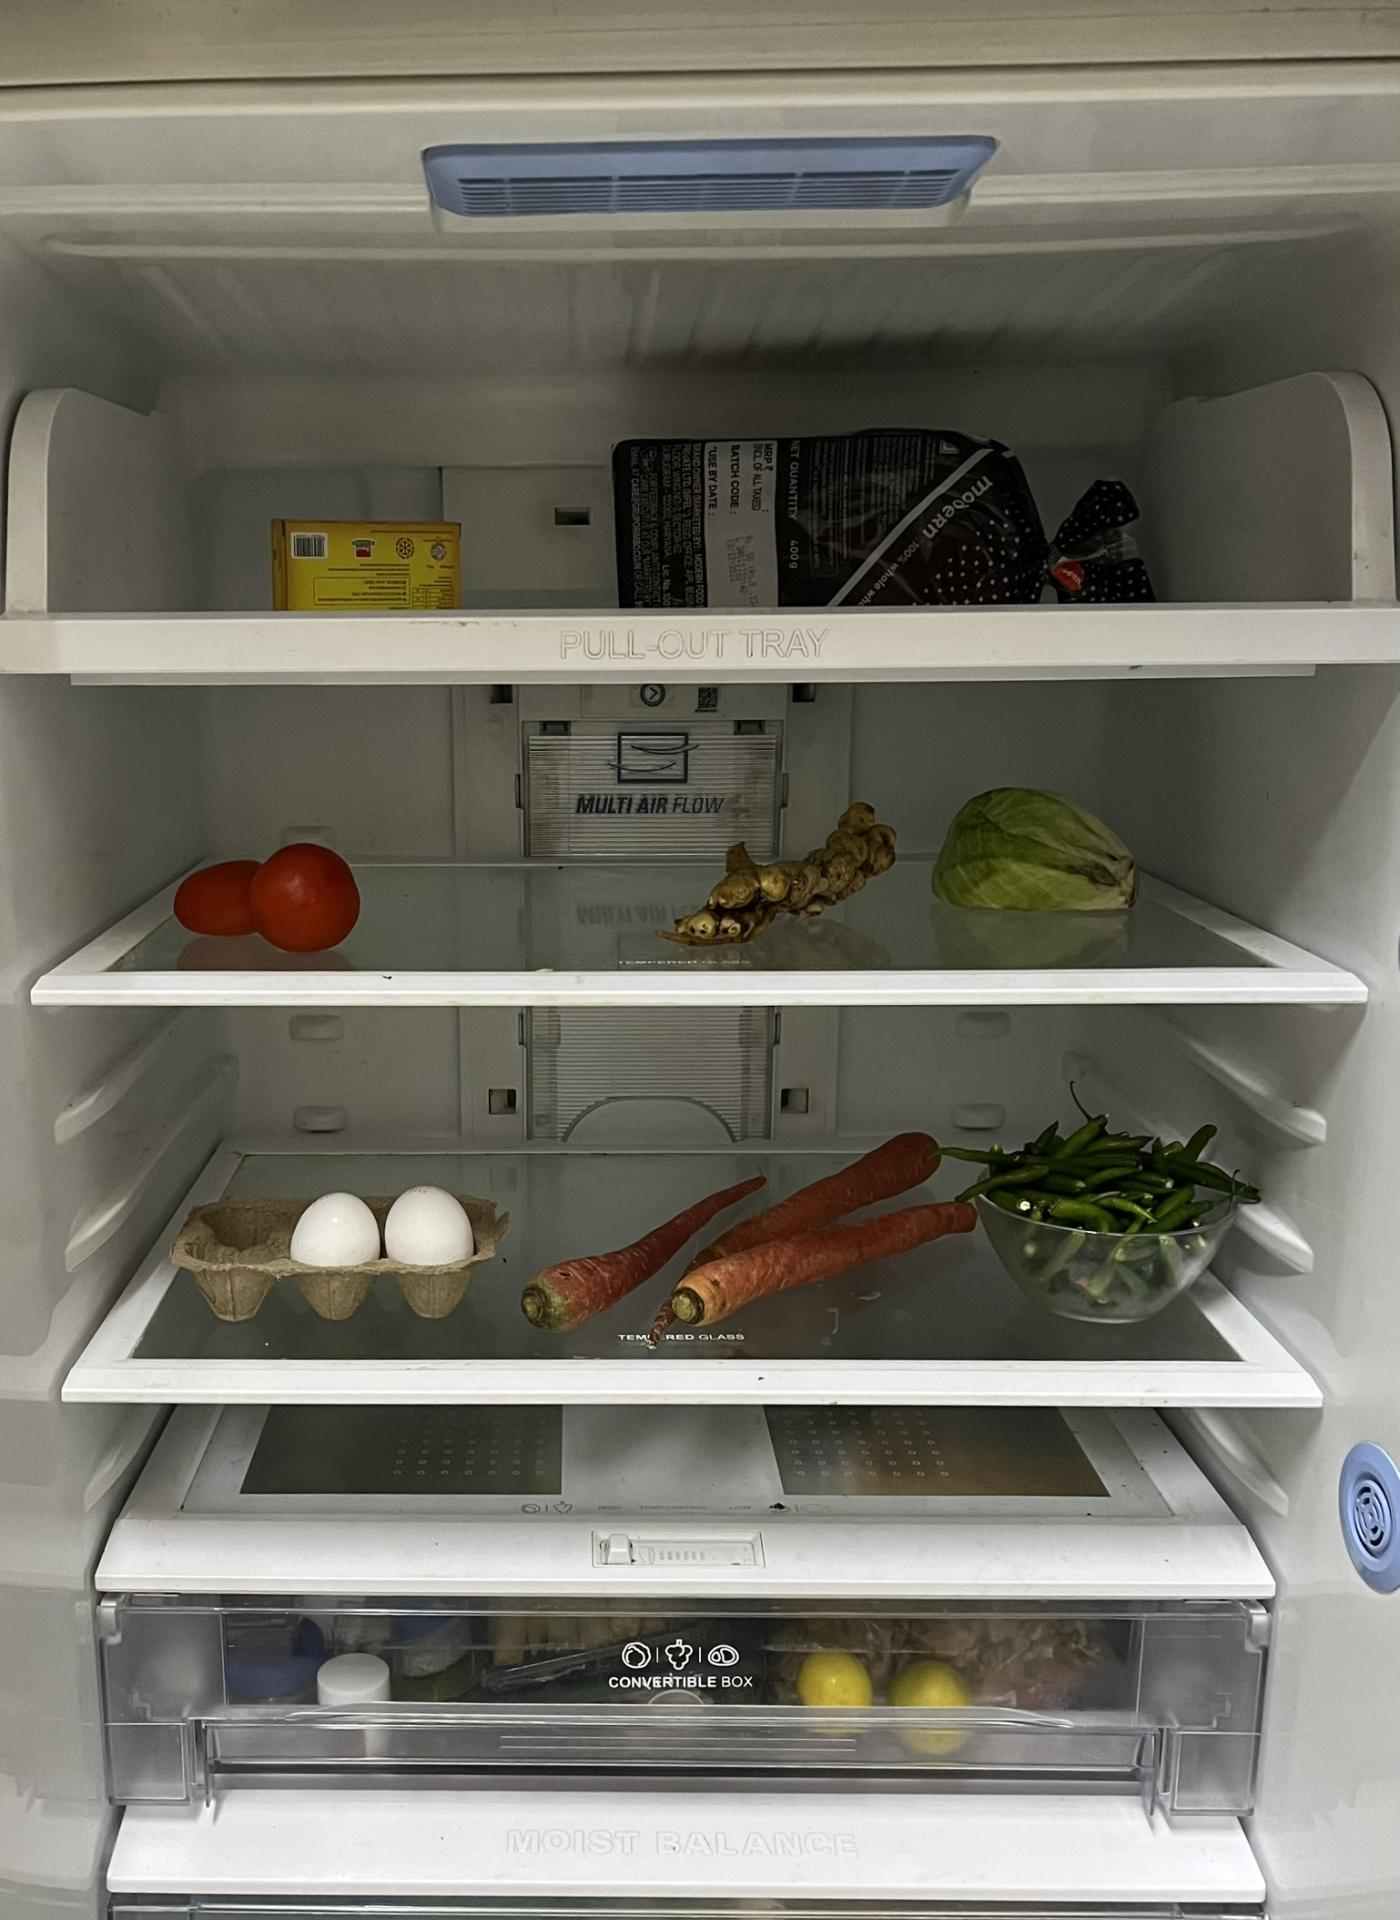bread: (608, 422, 1176, 608)
butter: (271, 514, 474, 610)
cabbage: (929, 787, 1148, 923)
carrots: (526, 1139, 994, 1354)
chillies: (981, 1125, 1236, 1316)
egg: (289, 1191, 474, 1324)
ginger: (660, 806, 904, 945)
tomato: (177, 841, 367, 947)
